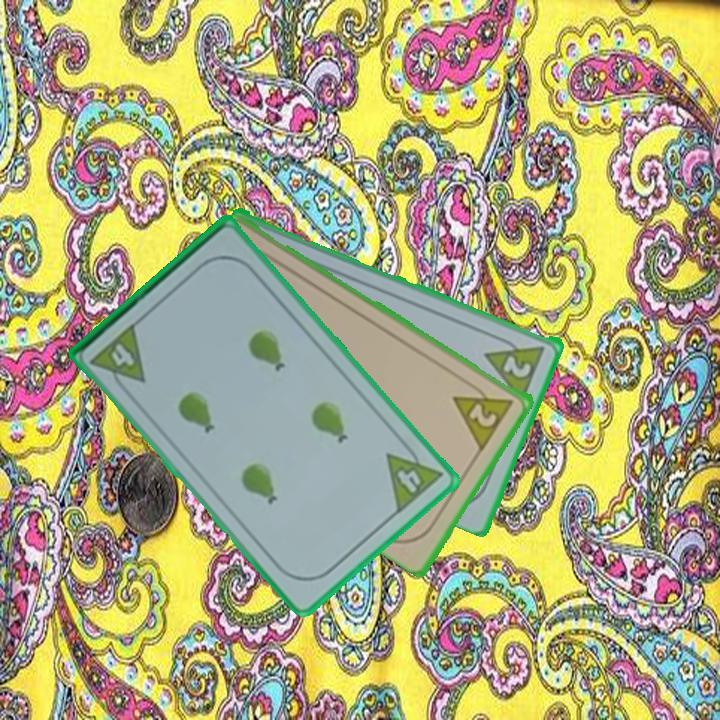2p: (450, 375, 518, 452), (499, 351, 535, 381)
4p: (382, 436, 446, 517), (87, 320, 149, 397)
